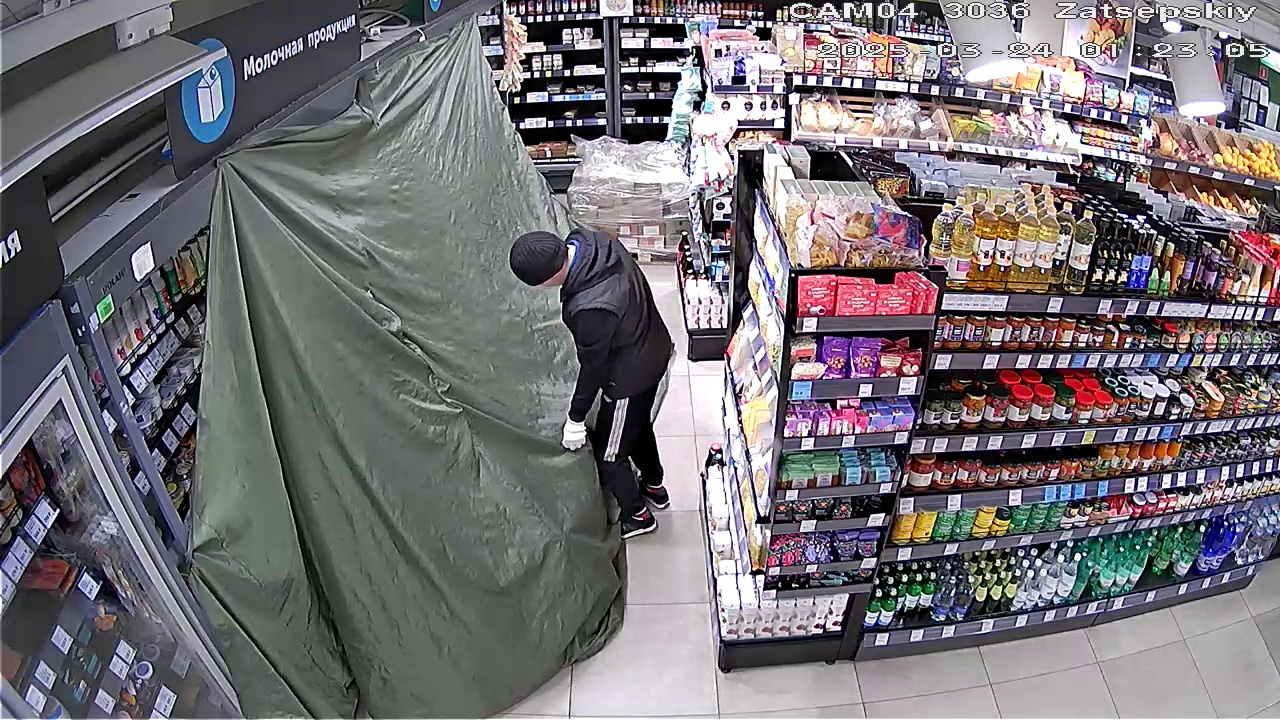Human: (498, 218, 683, 535)
dome: (186, 46, 633, 714)
pallet: (567, 137, 700, 260)
